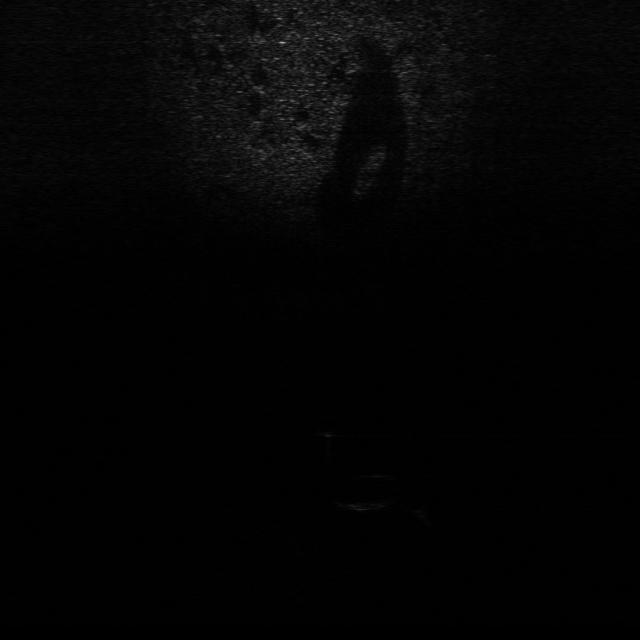ball: (310, 413, 350, 440)
tyre: (333, 469, 419, 514)
